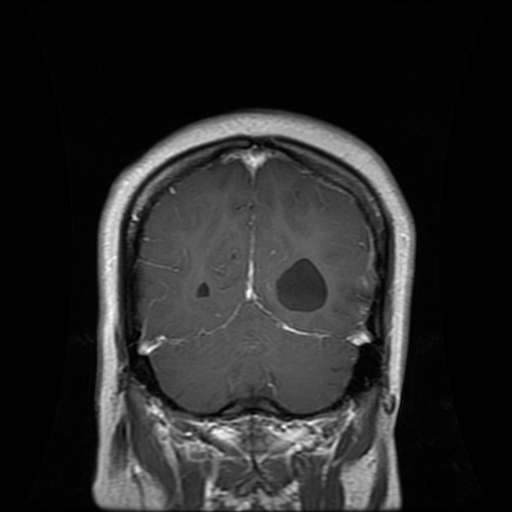glioma: (277, 258, 327, 310)
